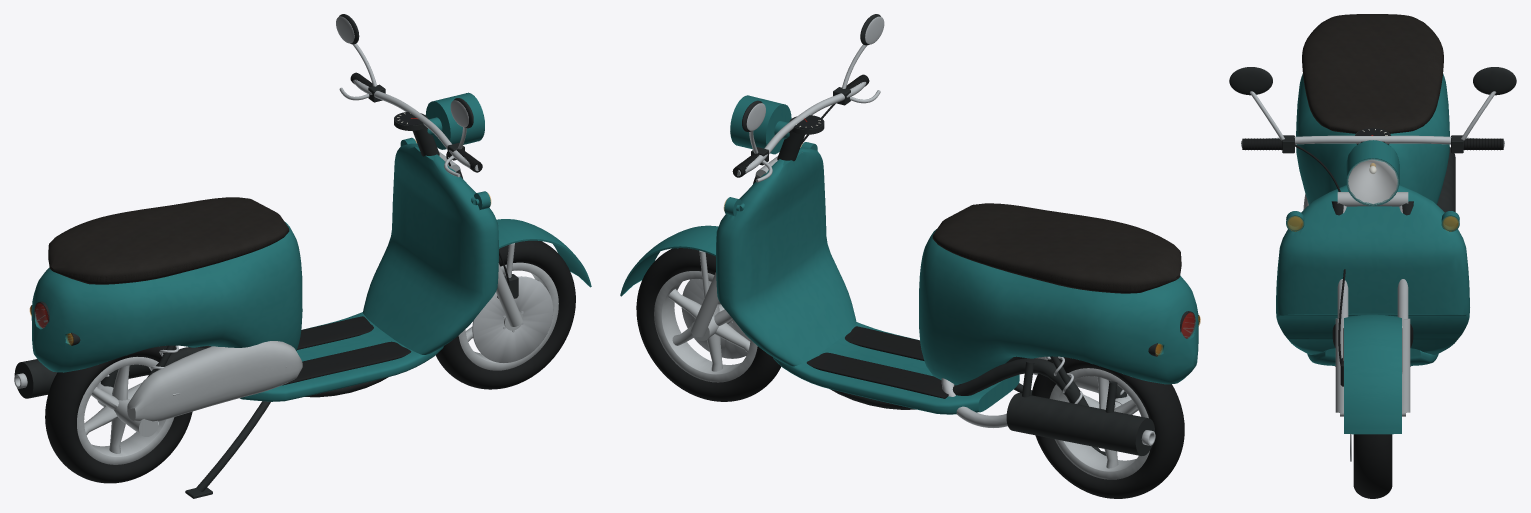
3 views of the same model, side by side, from view 1: azimuth 30°, elevation 25°; view 2: azimuth 150°, elevation 25°; view 3: azimuth 270°, elevation 25° (orthographic). The views are drawn at different scales.
Visible parts, largest first — view 1: Scooter batch: Original teal enamel paint, Scooter batch: Original brushed aluminium, Scooter batch: Original fine-grained tyre rubber, Scooter batch: Original black grained saddle leather, Scooter batch: Original polished steel, Scooter batch: Original black finished iron; view 2: Scooter batch: Original teal enamel paint, Scooter batch: Original fine-grained tyre rubber, Scooter batch: Original black grained saddle leather, Scooter batch: Original black finished iron, Scooter batch: Original brushed aluminium, Scooter batch: Original polished steel; view 3: Scooter batch: Original teal enamel paint, Scooter batch: Original black grained saddle leather, Scooter batch: Original polished steel, Scooter batch: Original fine-grained tyre rubber, Scooter batch: Original black finished iron, Scooter batch: Original brushed aluminium, Scooter batch: Original clear optical lens, Scooter batch: Original amber optical lens.
Boxes of the visible parts, x1=… form: Scooter batch: Original teal enamel paint: x1=31, y1=92, x2=591, y2=401; Scooter batch: Original brushed aluminium: x1=77, y1=143, x2=558, y2=464; Scooter batch: Original fine-grained tyre rubber: x1=45, y1=72, x2=575, y2=483; Scooter batch: Original black grained saddle leather: x1=48, y1=197, x2=289, y2=284; Scooter batch: Original polished steel: x1=14, y1=16, x2=553, y2=389; Scooter batch: Original black finished iron: x1=14, y1=14, x2=518, y2=498; Scooter batch: Original teal enamel paint: x1=620, y1=95, x2=1198, y2=414; Scooter batch: Original fine-grained tyre rubber: x1=636, y1=74, x2=1184, y2=498; Scooter batch: Original black grained saddle leather: x1=932, y1=203, x2=1181, y2=293; Scooter batch: Original black finished iron: x1=742, y1=14, x2=1199, y2=455; Scooter batch: Original brushed aluminium: x1=654, y1=147, x2=1149, y2=479; Scooter batch: Original polished steel: x1=681, y1=16, x2=1155, y2=445; Scooter batch: Original teal enamel paint: x1=1276, y1=73, x2=1469, y2=434; Scooter batch: Original black grained saddle leather: x1=1302, y1=14, x2=1443, y2=133; Scooter batch: Original polished steel: x1=1241, y1=91, x2=1504, y2=461; Scooter batch: Original fine-grained tyre rubber: x1=1242, y1=138, x2=1503, y2=498; Scooter batch: Original black finished iron: x1=1229, y1=67, x2=1516, y2=386; Scooter batch: Original brushed aluminium: x1=1303, y1=192, x2=1410, y2=412; Scooter batch: Original clear optical lens: x1=1347, y1=159, x2=1398, y2=205; Scooter batch: Original amber optical lens: x1=1287, y1=216, x2=1458, y2=231.
Bounding box in the file's own units: 1.9 × 1.17 × 0.814.
13 materials, 13 textured.
